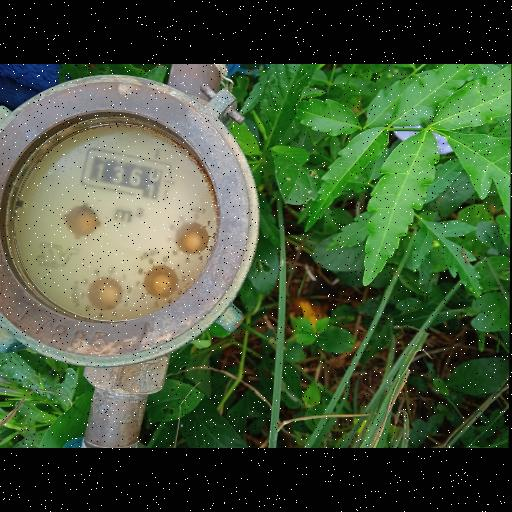0: (142, 167, 163, 200)
1: (92, 157, 109, 183)
3: (109, 159, 129, 187)
6: (127, 163, 147, 190)
border_water_meter_number: (80, 146, 178, 203)
